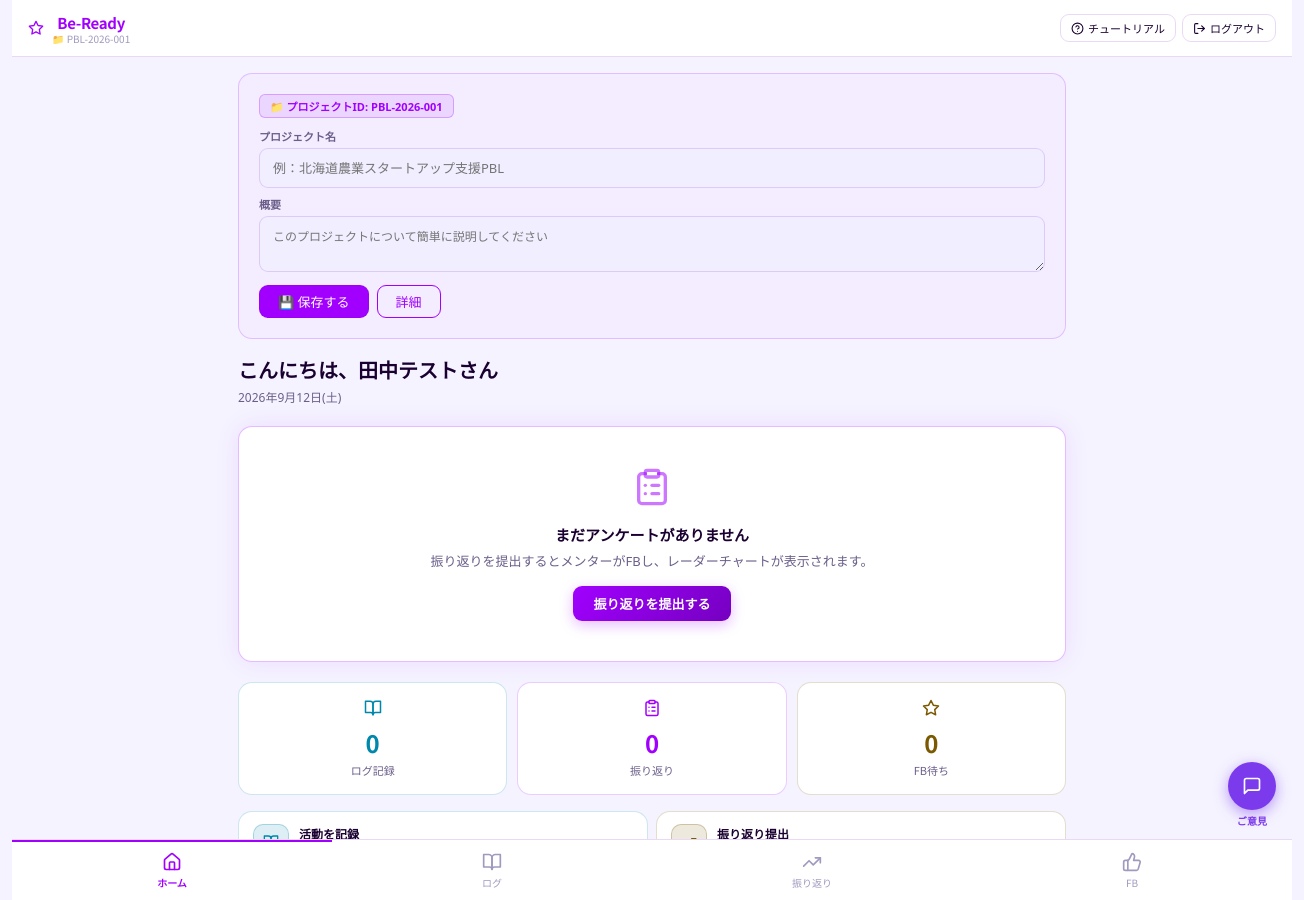
Test case: App - 学生: ボトムナビゲーション › 「振り返り」タブをクリックすると振り返り画面に遷移する
This screenshot has width=1304, height=900.
Expected: the text "Be-Ready" is shown, [57,12,125,33]
Step 1. Click the button "振り返り" → (812, 870), box [652,840,972,899]
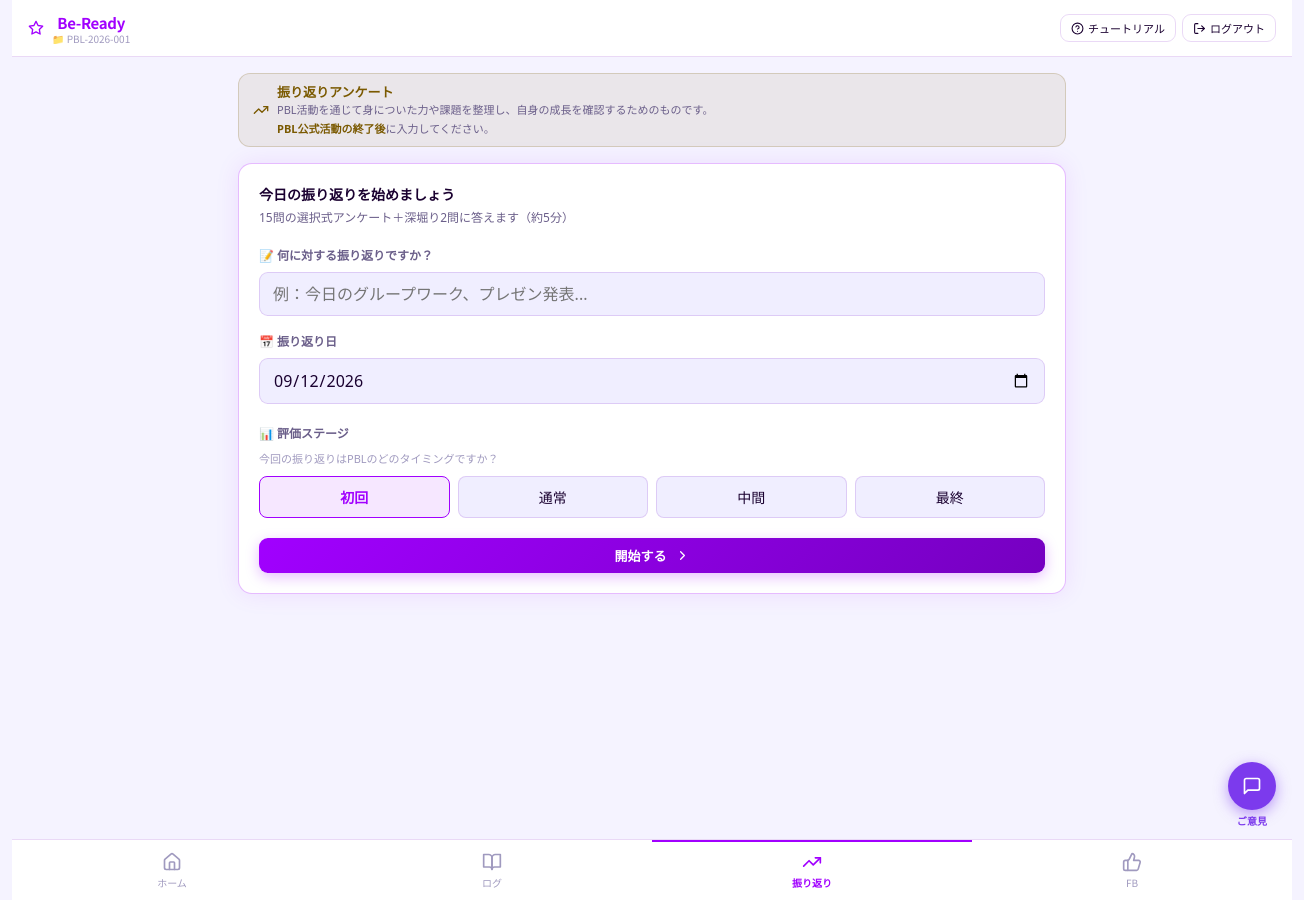
Now the text "振り返りアンケート" is shown, box [277,83,394,101]
